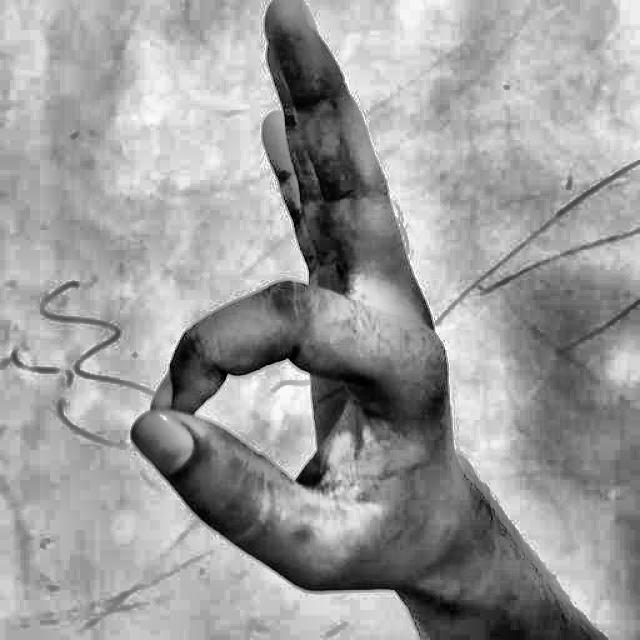Ca: (83, 1, 596, 640)
